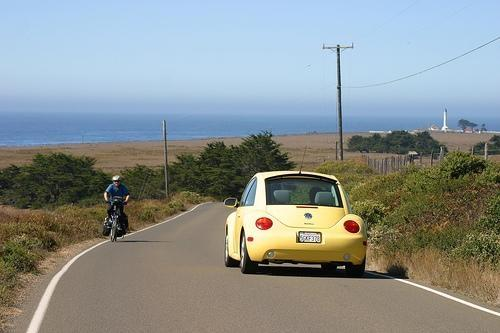bicycle: (107, 201, 127, 242)
car: (215, 169, 366, 274)
